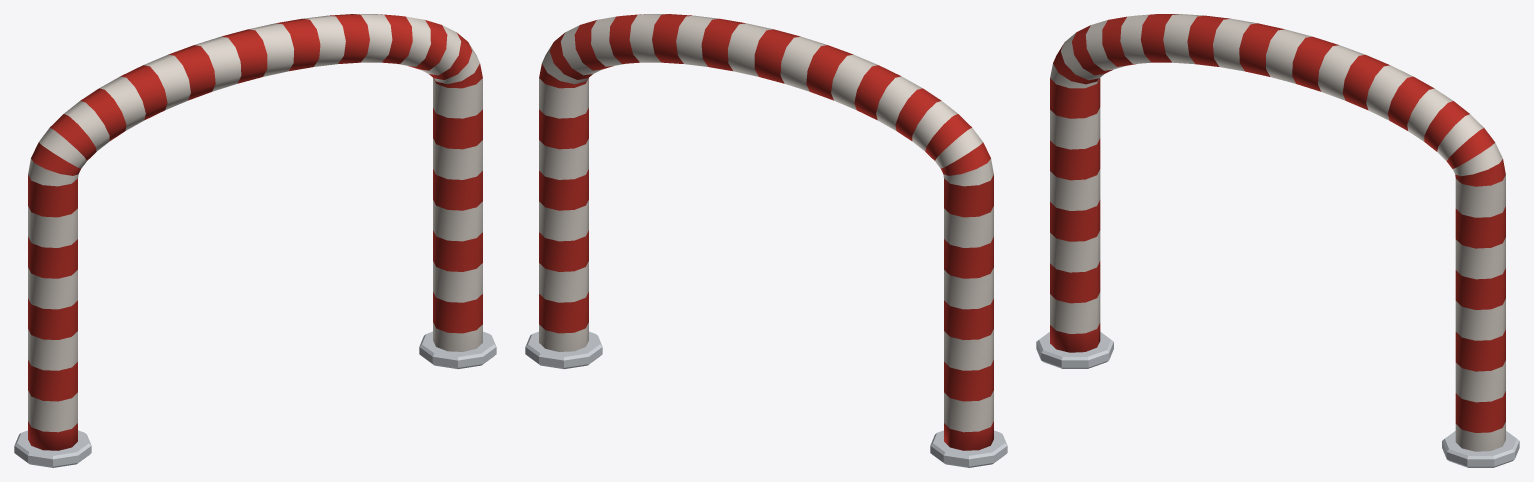
Rendered from cane_arch.glb.
3 views of the same model, side by side, from view 1: azimuth 30°, elevation 25°; view 2: azimuth 150°, elevation 25°; view 3: azimuth 330°, elevation 25° (orthographic).
Visible parts, largest first — view 1: cane_arch; view 2: cane_arch; view 3: cane_arch.
Part boxes in pixels (box(x1,y1,x2,y2)): cane_arch: box(14, 14, 496, 467); cane_arch: box(525, 14, 1007, 467); cane_arch: box(1036, 14, 1519, 467).
Bounding box in the file's own units: 7.35 × 5.56 × 1.04.
